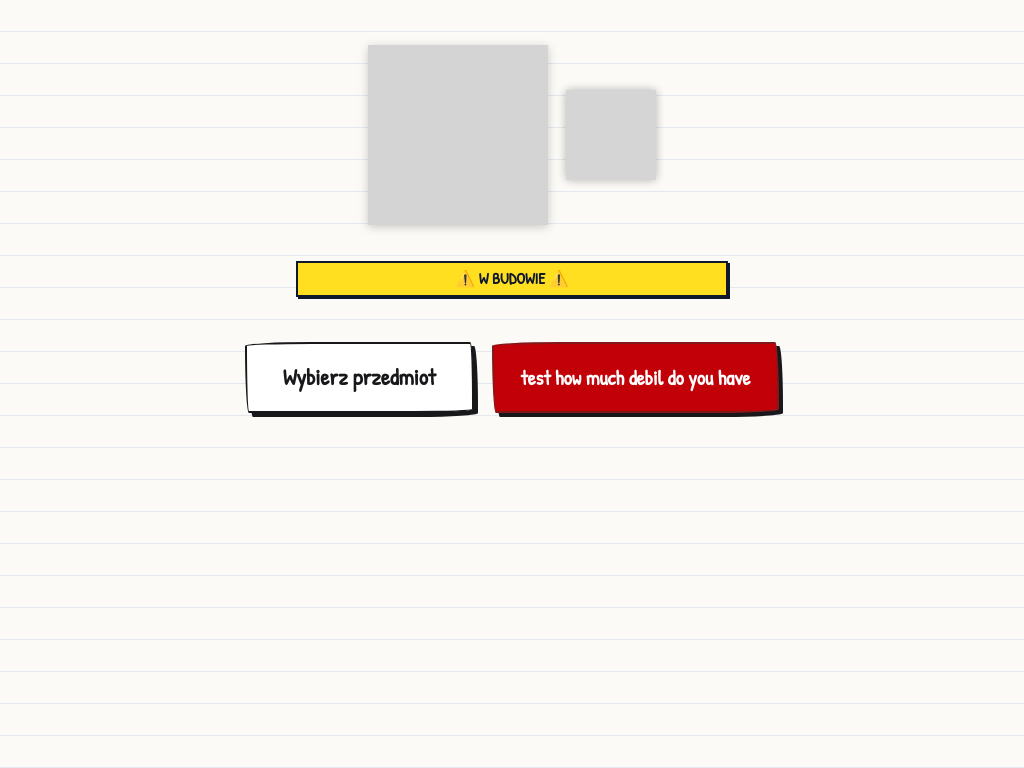
Home Page - Minimalist › increments debil counter on click
# Click button
Click the button "test how much debil do you have".
click(635, 377)  # box [492, 342, 779, 413]
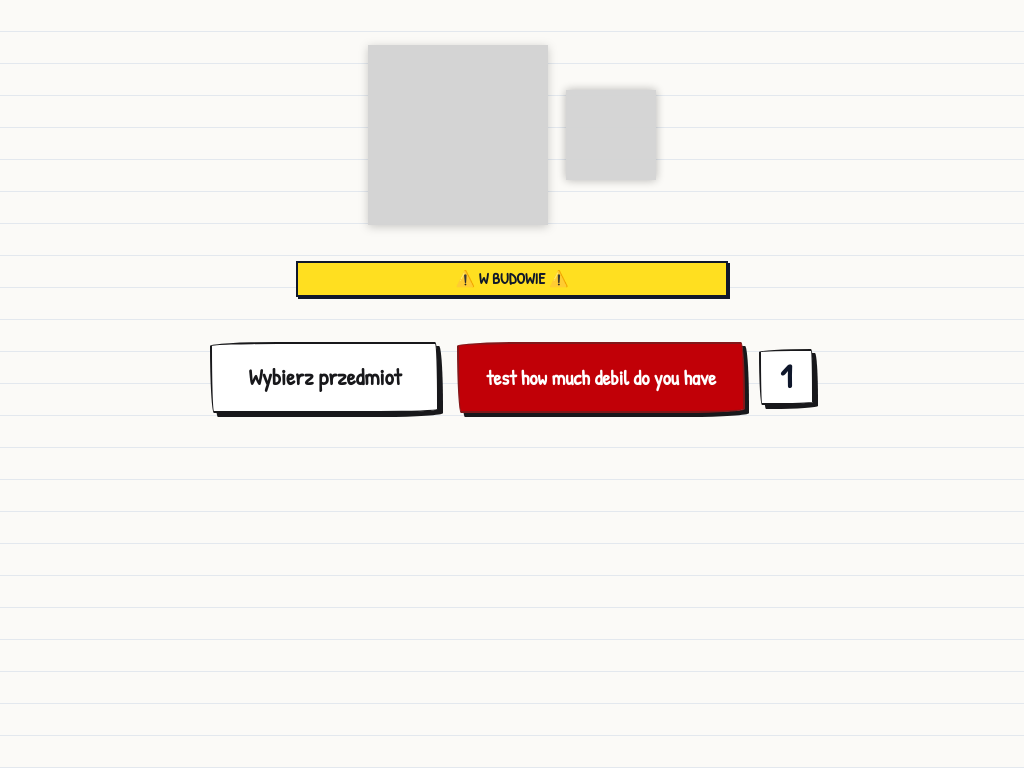
Now the element titled "Ilość kliknięć" is shown, box [759, 349, 814, 405]
Now the element titled "Ilość kliknięć" reads "1", box [780, 353, 792, 399]
# Click again
Click the button "test how much debil do you have".
click(601, 377)  # box [457, 342, 745, 413]
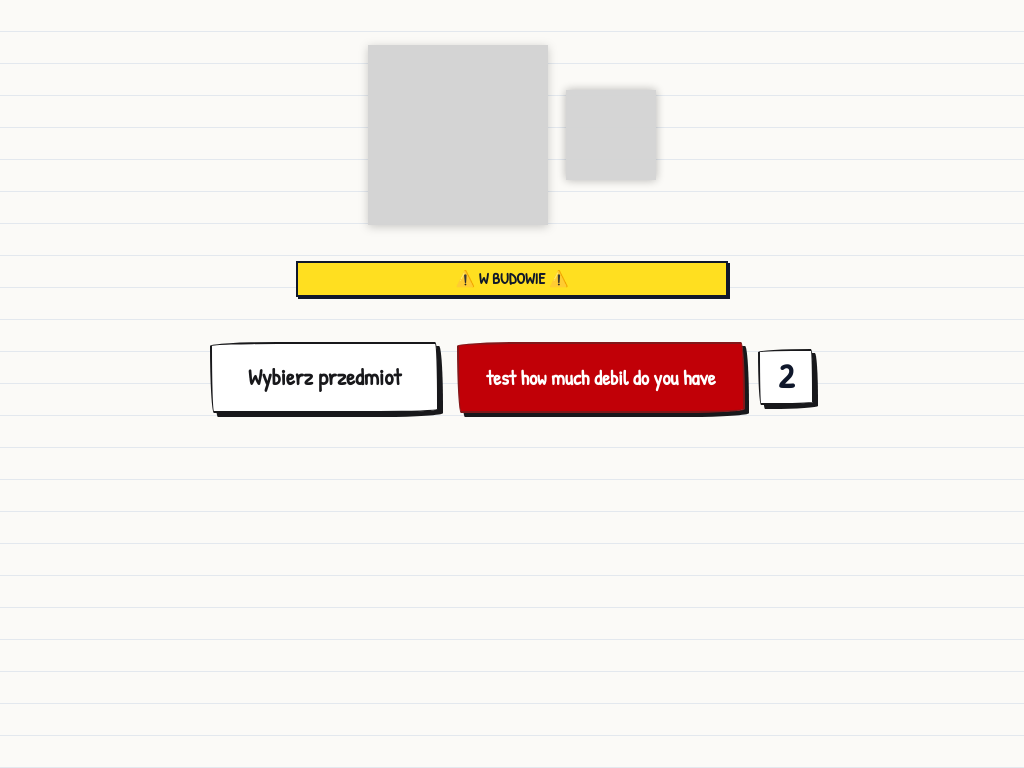
Now the element titled "Ilość kliknięć" reads "2", box [778, 353, 794, 399]
